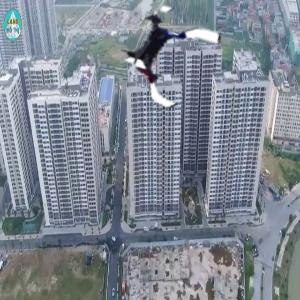drone: (116, 6, 221, 111)
